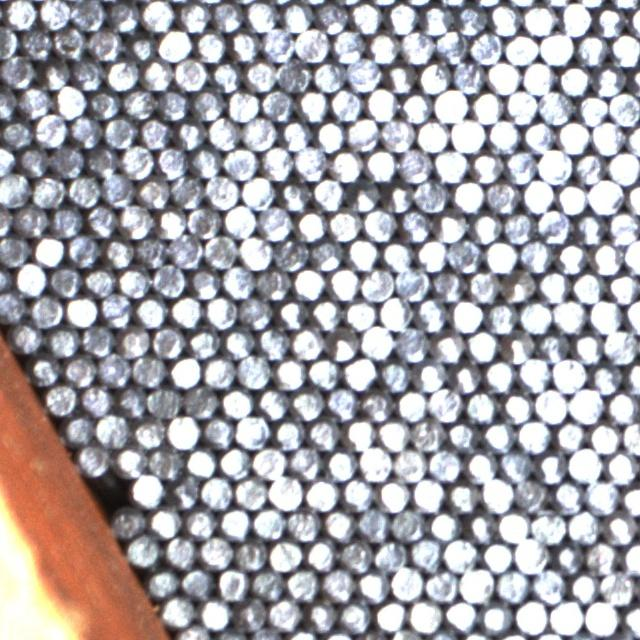tool: (395, 326, 430, 362), (552, 356, 587, 392), (62, 352, 97, 387), (569, 387, 604, 422), (376, 477, 411, 512), (531, 508, 566, 543), (414, 177, 449, 212), (406, 598, 441, 633), (147, 383, 182, 418), (128, 472, 163, 507), (232, 596, 267, 631), (110, 503, 145, 538), (516, 356, 550, 392), (588, 178, 622, 214), (168, 353, 202, 388), (342, 355, 376, 390), (568, 447, 602, 482), (520, 178, 555, 212), (469, 148, 504, 182), (240, 175, 275, 209), (391, 507, 426, 541), (87, 26, 122, 60), (148, 504, 182, 539), (223, 203, 257, 238), (117, 323, 151, 358), (392, 447, 427, 481), (604, 328, 638, 363), (203, 232, 238, 266), (152, 323, 186, 358), (314, 0, 349, 34), (340, 476, 375, 510), (449, 297, 483, 332), (342, 296, 377, 330), (102, 171, 136, 206), (514, 478, 549, 512), (514, 598, 548, 633), (238, 294, 272, 329), (268, 474, 303, 508), (504, 148, 538, 183), (215, 566, 250, 600), (119, 203, 153, 238), (480, 476, 514, 511), (237, 353, 271, 388), (97, 350, 131, 385), (538, 149, 572, 184), (127, 532, 161, 567), (450, 117, 484, 152), (432, 148, 467, 182), (584, 478, 618, 513), (484, 179, 518, 214), (277, 178, 311, 213), (501, 268, 535, 303), (166, 413, 200, 448), (502, 329, 536, 364), (307, 355, 341, 390), (258, 205, 292, 240), (459, 568, 494, 602), (357, 446, 392, 480), (413, 358, 448, 392), (157, 27, 191, 62), (80, 322, 115, 356), (360, 324, 394, 359), (131, 352, 166, 386), (413, 296, 447, 331), (255, 266, 290, 300), (428, 386, 462, 420), (199, 534, 233, 568), (480, 538, 514, 572), (551, 480, 585, 514), (250, 565, 284, 599), (533, 388, 567, 422), (290, 325, 324, 359), (14, 202, 48, 236), (137, 174, 171, 208), (164, 534, 198, 568), (67, 172, 101, 206), (322, 506, 356, 540), (451, 178, 485, 212), (304, 476, 338, 510), (273, 356, 307, 390), (50, 142, 84, 176), (428, 447, 462, 481), (567, 509, 601, 543), (496, 509, 530, 543), (549, 599, 583, 633), (378, 295, 412, 329), (66, 232, 100, 266), (556, 119, 590, 153), (13, 260, 47, 294), (294, 207, 328, 241), (140, 56, 174, 90), (304, 536, 338, 570), (268, 536, 302, 570), (96, 412, 130, 446), (418, 59, 452, 93), (366, 30, 400, 64), (289, 445, 323, 479), (373, 538, 407, 572), (50, 203, 84, 237), (79, 382, 113, 416), (479, 599, 513, 633), (415, 118, 449, 152), (331, 28, 365, 62), (584, 540, 618, 574), (603, 510, 637, 544), (239, 234, 273, 268), (390, 566, 424, 600), (224, 145, 258, 179), (220, 385, 254, 419), (356, 506, 390, 540), (167, 474, 201, 508), (252, 444, 286, 478), (468, 209, 502, 243), (204, 173, 238, 207), (277, 58, 311, 92), (604, 449, 638, 483), (46, 323, 80, 357), (293, 144, 327, 178), (295, 27, 329, 61), (364, 86, 398, 120), (380, 118, 414, 152), (448, 238, 482, 272), (286, 507, 320, 541), (154, 145, 188, 179), (169, 294, 203, 328), (521, 60, 555, 94), (242, 116, 276, 150), (584, 600, 618, 634), (256, 326, 290, 360), (504, 89, 538, 123), (18, 84, 52, 118), (516, 418, 550, 452), (338, 537, 372, 571), (486, 60, 520, 94), (169, 232, 203, 266), (338, 598, 372, 632), (346, 116, 380, 150), (466, 268, 500, 302), (326, 327, 360, 361), (304, 598, 338, 632), (378, 357, 412, 391), (539, 30, 573, 64), (268, 596, 302, 630), (520, 238, 554, 272), (274, 296, 308, 330), (537, 208, 571, 242), (534, 449, 568, 483), (411, 478, 445, 512), (431, 268, 465, 302), (322, 567, 356, 601), (532, 568, 566, 602), (31, 174, 65, 208), (464, 388, 498, 422), (234, 414, 268, 448), (285, 566, 319, 600), (514, 538, 548, 572), (312, 57, 346, 91), (469, 89, 503, 123), (28, 293, 62, 327), (260, 27, 294, 61), (187, 265, 221, 299), (36, 57, 70, 91), (259, 145, 293, 179), (496, 568, 530, 602), (586, 420, 620, 454), (134, 232, 168, 266), (187, 204, 221, 238), (589, 360, 623, 394), (203, 354, 236, 389), (443, 598, 478, 631), (329, 147, 362, 182), (274, 237, 309, 270), (556, 180, 589, 215), (326, 385, 359, 420), (558, 1, 591, 36), (432, 329, 465, 364), (483, 300, 518, 333), (190, 87, 225, 120), (53, 24, 86, 59), (115, 383, 148, 418), (100, 291, 133, 326), (360, 386, 393, 421), (85, 144, 120, 177), (218, 505, 251, 539), (607, 150, 640, 184), (401, 30, 434, 64), (252, 505, 285, 539), (452, 59, 486, 92), (175, 56, 208, 90), (45, 382, 78, 416), (503, 209, 536, 243), (443, 538, 477, 571), (606, 270, 639, 304), (49, 263, 82, 297), (607, 210, 640, 244), (522, 2, 556, 35), (52, 84, 86, 117), (171, 174, 204, 208), (427, 508, 460, 542), (398, 148, 431, 182), (1, 53, 34, 87), (328, 208, 361, 242), (470, 31, 504, 64), (152, 262, 185, 296), (200, 474, 233, 508), (345, 237, 379, 270), (348, 57, 382, 90), (399, 209, 433, 242), (380, 238, 414, 271), (278, 118, 312, 151), (329, 87, 363, 120), (573, 151, 606, 185), (553, 298, 586, 332), (466, 328, 499, 362), (203, 295, 237, 328), (121, 144, 154, 178), (122, 86, 155, 120), (218, 445, 251, 479), (71, 55, 104, 89), (522, 119, 556, 152), (324, 447, 357, 481), (415, 237, 448, 271), (419, 3, 453, 36), (291, 386, 325, 419), (310, 237, 343, 271), (435, 28, 468, 62), (179, 566, 213, 599), (105, 56, 138, 90), (500, 448, 533, 482), (85, 202, 118, 236), (311, 177, 345, 210), (64, 293, 98, 326), (77, 441, 111, 474), (292, 266, 326, 299), (234, 536, 267, 570), (327, 266, 360, 300), (187, 325, 220, 359), (184, 384, 217, 418), (117, 264, 151, 297), (188, 145, 222, 178), (183, 506, 216, 540), (101, 234, 135, 267), (132, 415, 165, 449), (234, 474, 267, 508), (103, 114, 137, 147), (154, 206, 188, 239), (572, 212, 606, 245), (260, 87, 294, 120), (206, 116, 240, 149), (601, 570, 634, 604), (272, 417, 306, 450), (257, 384, 290, 418), (124, 29, 158, 62), (149, 444, 183, 477), (197, 595, 230, 629), (68, 114, 102, 147), (361, 266, 394, 300), (553, 418, 586, 452), (536, 331, 570, 364), (464, 450, 498, 483), (395, 266, 429, 299), (362, 207, 396, 240), (588, 300, 622, 333), (486, 119, 520, 152), (9, 320, 43, 353), (210, 58, 243, 92), (445, 418, 479, 451), (505, 31, 538, 64), (519, 299, 552, 332), (447, 480, 480, 513), (571, 270, 604, 303), (193, 29, 226, 62), (350, 0, 383, 33), (17, 144, 50, 177), (592, 5, 625, 38), (222, 326, 255, 359), (156, 87, 189, 120), (591, 120, 624, 153), (395, 386, 428, 419), (484, 239, 517, 272), (450, 360, 483, 393), (244, 57, 277, 90), (312, 118, 345, 151), (87, 86, 120, 119), (61, 411, 94, 444), (343, 417, 376, 450), (348, 180, 381, 213), (455, 3, 488, 36), (356, 569, 389, 602), (426, 568, 459, 601), (434, 210, 467, 243), (482, 418, 515, 451), (32, 233, 65, 266), (222, 264, 255, 297), (540, 90, 573, 123), (591, 63, 624, 96), (555, 241, 588, 274), (410, 417, 443, 450), (0, 115, 33, 148), (134, 294, 167, 327), (606, 389, 638, 423), (20, 25, 52, 59), (572, 331, 604, 365), (576, 32, 608, 66), (202, 414, 234, 448), (557, 63, 591, 95), (484, 358, 516, 392), (374, 598, 406, 632), (410, 536, 442, 570), (228, 28, 260, 62), (105, 0, 139, 32), (82, 264, 116, 296), (489, 2, 521, 36), (160, 594, 194, 626), (536, 270, 570, 302), (113, 444, 147, 476), (608, 33, 640, 66), (177, 0, 210, 32), (280, 1, 312, 34), (226, 88, 259, 120), (501, 390, 534, 422), (434, 88, 466, 121), (364, 147, 396, 180), (385, 61, 417, 94), (138, 116, 171, 148), (308, 416, 340, 449), (296, 88, 328, 121), (576, 92, 608, 125), (464, 511, 496, 544), (377, 418, 410, 450), (385, 1, 417, 34), (210, 0, 243, 32), (400, 90, 432, 123), (34, 113, 66, 146), (383, 181, 415, 214), (552, 542, 585, 574), (568, 570, 600, 603), (590, 240, 622, 273), (172, 117, 205, 149), (310, 297, 342, 330), (29, 352, 61, 385), (145, 566, 178, 598), (184, 445, 216, 478), (140, 0, 174, 31), (609, 91, 640, 125), (245, 0, 278, 31), (0, 232, 29, 266), (0, 172, 29, 206), (71, 0, 104, 29), (2, 0, 36, 28), (38, 0, 70, 28), (0, 290, 26, 322), (620, 482, 640, 516), (621, 602, 640, 636), (621, 419, 640, 453), (621, 540, 640, 574), (0, 24, 18, 58), (0, 86, 18, 120), (177, 623, 211, 640), (624, 238, 640, 272), (624, 361, 640, 394), (214, 625, 249, 640), (625, 298, 640, 332), (625, 182, 640, 216), (250, 625, 284, 640), (0, 144, 14, 177), (0, 203, 13, 236)
